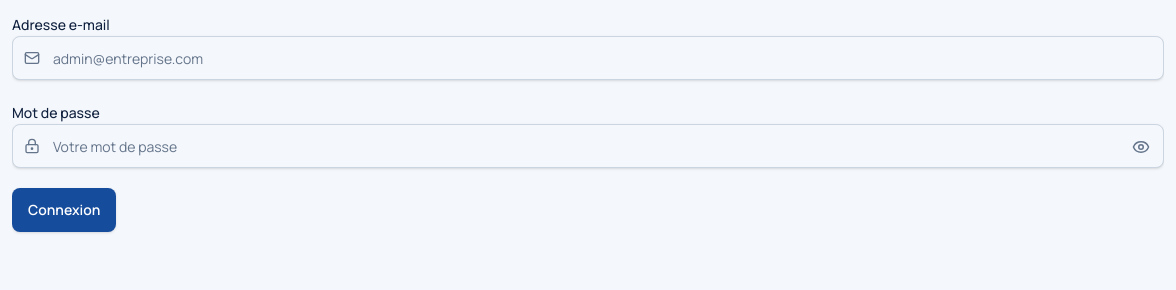
Test: LoginForm › affiche l’erreur générique dans une alerte sans conserver le mot de passe
Type "admin@example.com" into the field labelled "Adresse e-mail" at (588, 58), box x1=12 y1=36 x2=1164 y2=80
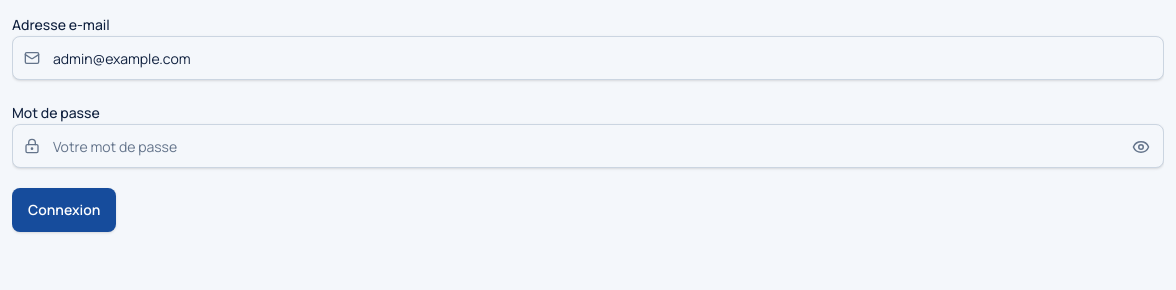
Type "secret" into the password field labelled "Mot de passe" at (588, 146), box x1=12 y1=124 x2=1164 y2=168
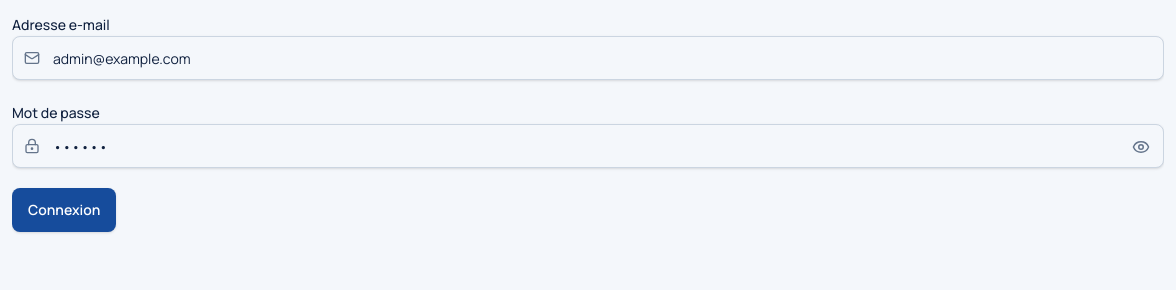
Submit the form "Connexion"
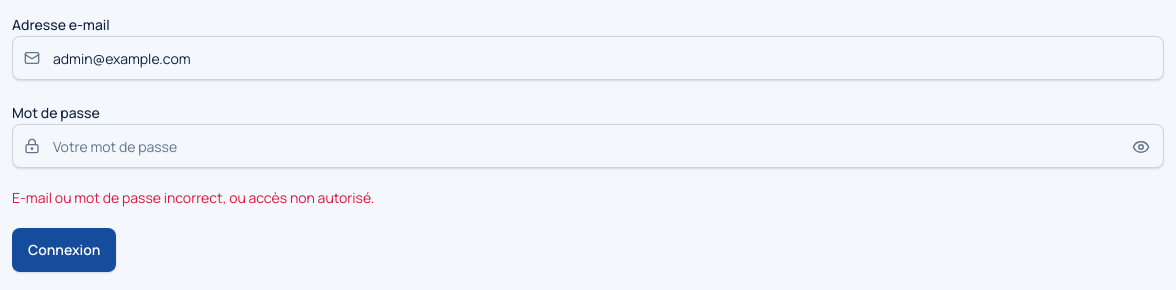
Check: the field labelled "Adresse e-mail" holds "admin@example.com"
Check: the message reads "E-mail ou mot de passe incorrect, ou accès non autorisé.", box x1=12 y1=188 x2=374 y2=207
Check: the password field labelled "Mot de passe" is empty, box x1=12 y1=124 x2=1164 y2=168
Replace the text in the field labelled "Adresse e-mail" with "autre@example.com" at (588, 58), box x1=12 y1=36 x2=1164 y2=80
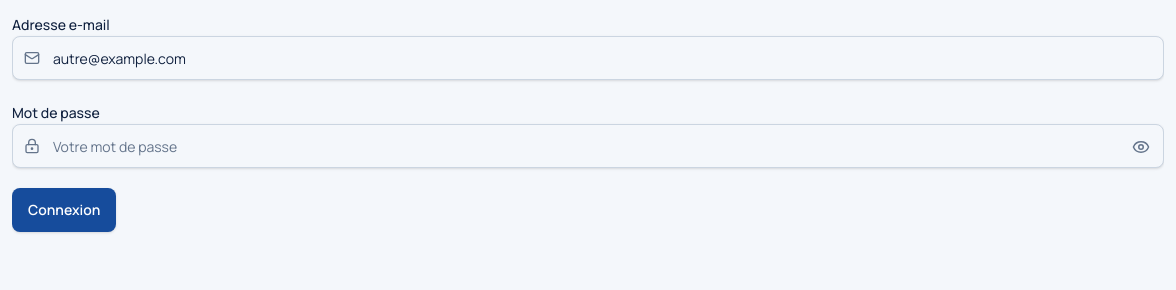
Check: the text "E-mail ou mot de passe incorrect, ou accès non autorisé." is gone
